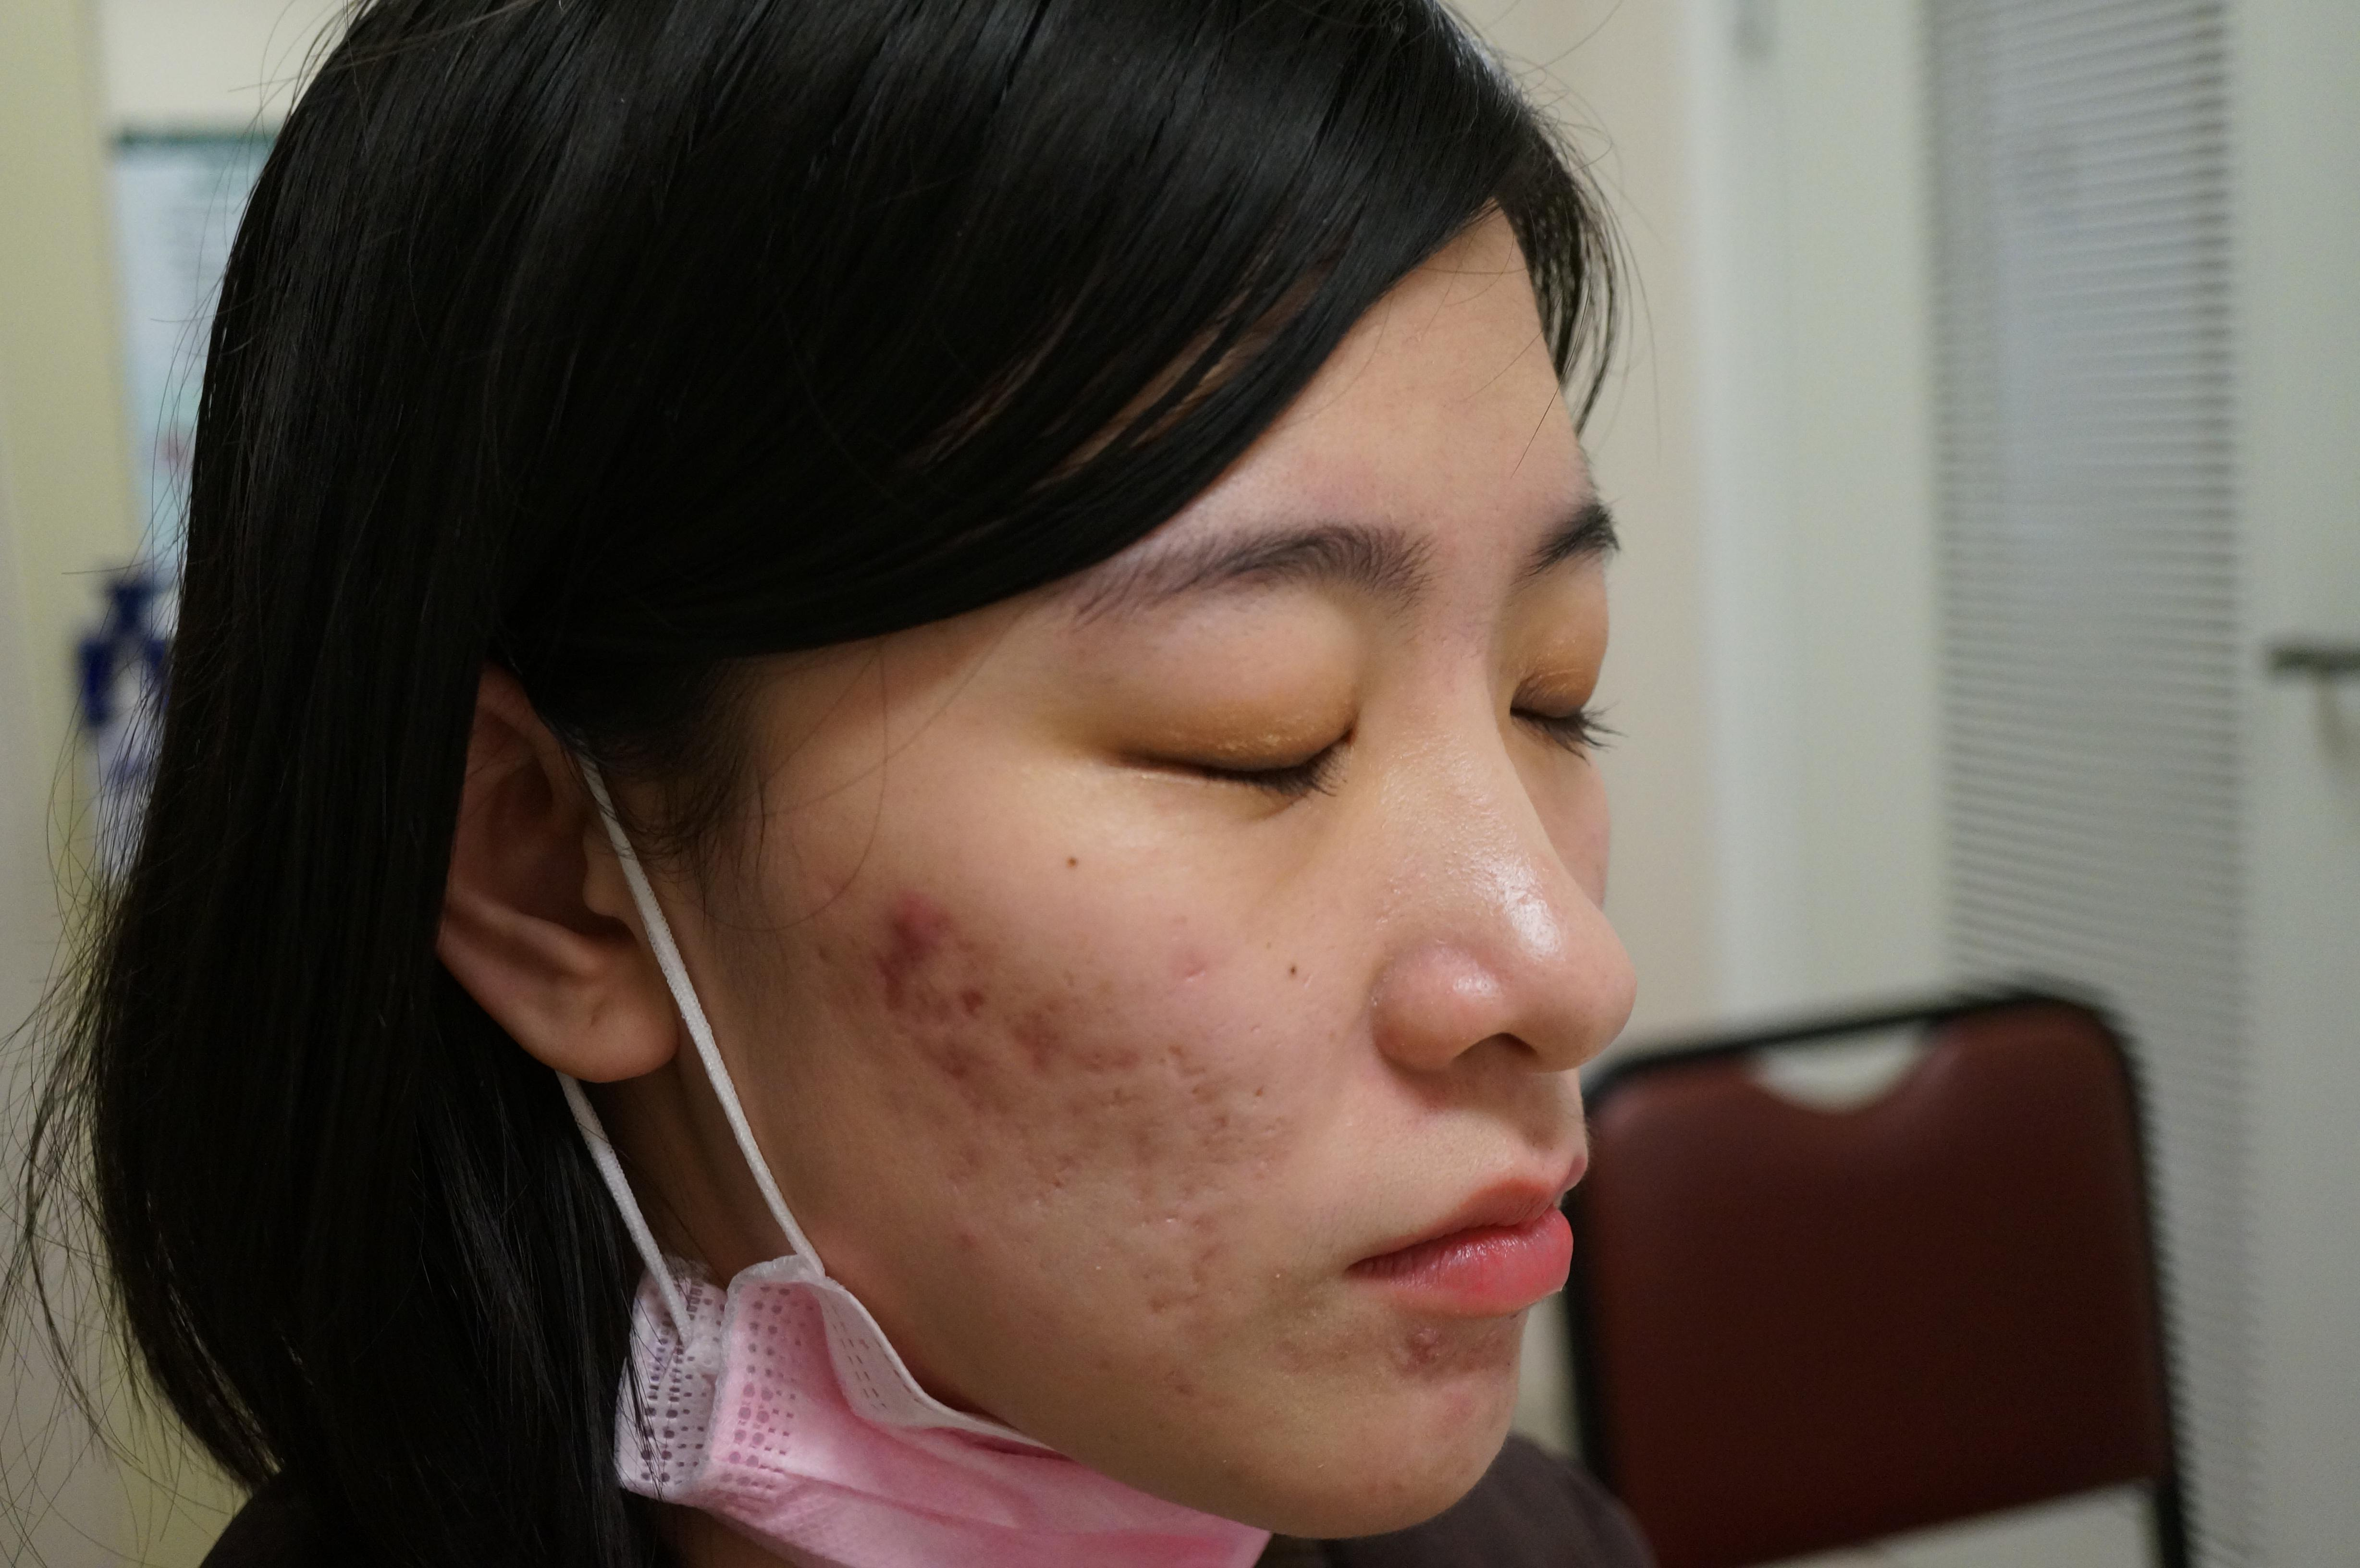fore: (845, 877, 932, 957), (904, 1020, 997, 1088), (850, 957, 950, 1020), (1141, 1008, 1221, 1085), (1401, 1388, 1477, 1452), (1085, 1111, 1162, 1172), (913, 1216, 985, 1276), (1380, 1319, 1456, 1375), (953, 1069, 1032, 1120), (1009, 992, 1065, 1052), (1072, 1032, 1125, 1085), (938, 948, 981, 1008), (1177, 1197, 1228, 1248), (945, 1129, 994, 1179)
